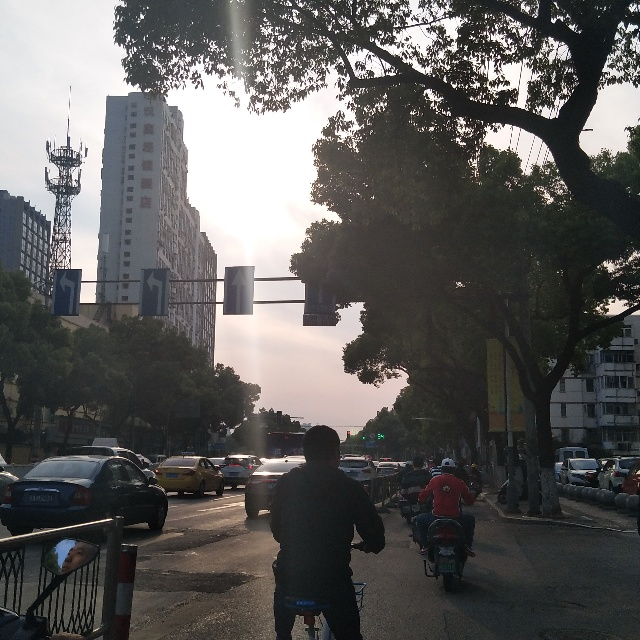left: (55, 269, 81, 319), (144, 269, 164, 316)
straight: (222, 261, 253, 313)
